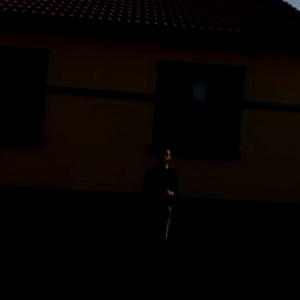follow: (135, 135, 183, 288)
